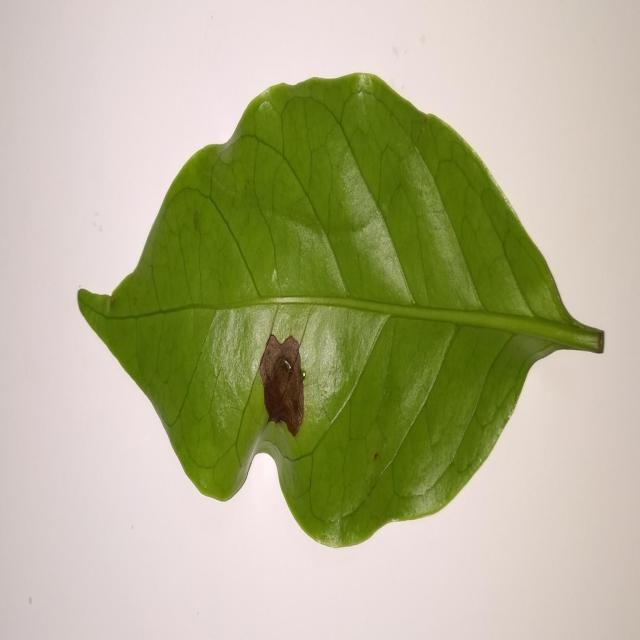Enfermedad-Antracnosis: (75, 73, 606, 552)
